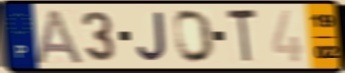3: (81, 10, 118, 63)
4: (270, 8, 306, 65)
A: (31, 7, 86, 65)
J: (135, 10, 169, 63)
O: (172, 8, 217, 65)
T: (225, 7, 260, 66)
